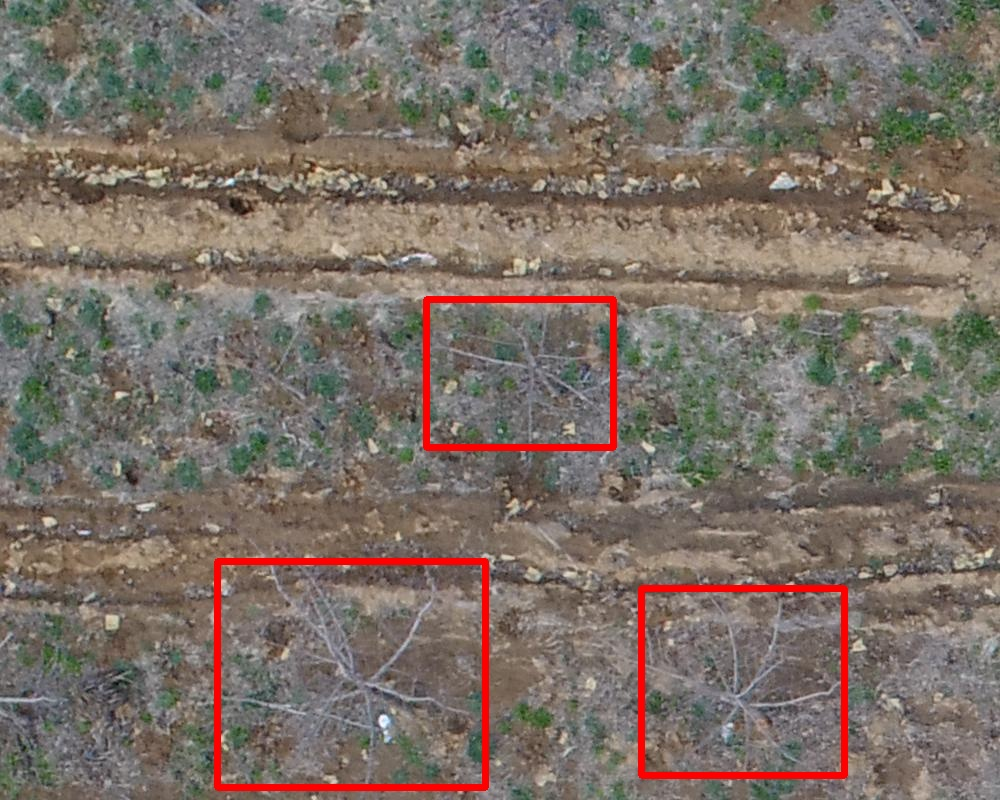apple: (217, 561, 485, 787), (641, 588, 844, 775), (426, 299, 613, 447)
